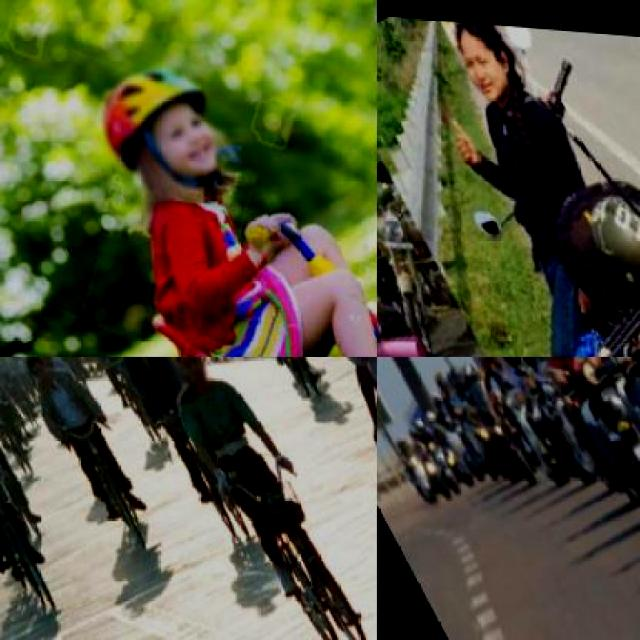With Helmet: (77, 33, 246, 218), (466, 357, 496, 372), (492, 357, 528, 368), (476, 357, 510, 368)
Without Helmet: (432, 15, 532, 106), (157, 357, 215, 391), (24, 357, 64, 394)
